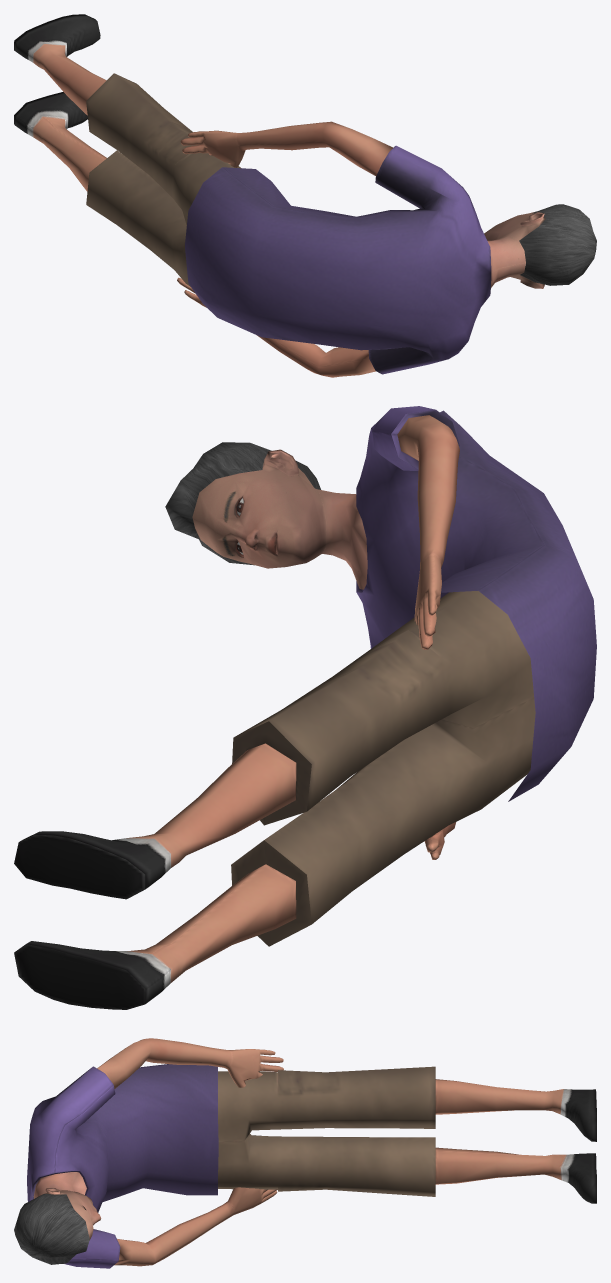
Rendered from man_leaning.glb.
3 renders of one model, top to bottom at view 1: azimuth 30°, elevation 25°; view 2: azimuth 150°, elevation 25°; view 3: azimuth 270°, elevation 25°, orthographic. The views are drawn at different scales.
Parts seen in each view (by area): view 1: world; view 2: world; view 3: world.
Boxes of the visible parts, bbox=[...] form: world: bbox=[14, 14, 596, 377]; world: bbox=[14, 406, 596, 1009]; world: bbox=[14, 1038, 596, 1268].
Bounding box in the file's own units: 0.7669 × 0.5832 × 1.37.
Materials: 1 (1 with a texture image).
